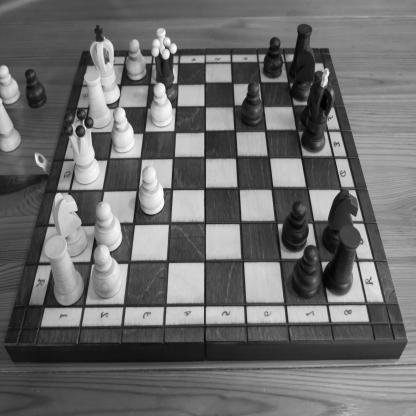black-bishop: (300, 71, 325, 128)
black-king: (301, 67, 335, 154)
black-knight: (322, 188, 359, 254), (291, 45, 315, 104)
black-pawn: (292, 244, 322, 300), (281, 200, 309, 254), (241, 82, 264, 128), (24, 69, 48, 111), (264, 37, 284, 80)
black-queen: (151, 37, 178, 103)
black-rook: (322, 224, 362, 296), (288, 24, 312, 79)
white-bishop: (0, 99, 23, 154), (154, 28, 176, 81)
white-king: (89, 24, 121, 106)
white-knight: (50, 192, 88, 258)
white-pawn: (92, 243, 122, 299), (94, 201, 123, 252), (138, 165, 165, 216), (111, 107, 135, 154), (150, 82, 173, 128), (126, 38, 147, 81), (1, 66, 21, 107)
white-queen: (63, 108, 100, 185)
white-rook: (44, 234, 85, 307), (84, 70, 112, 130)
